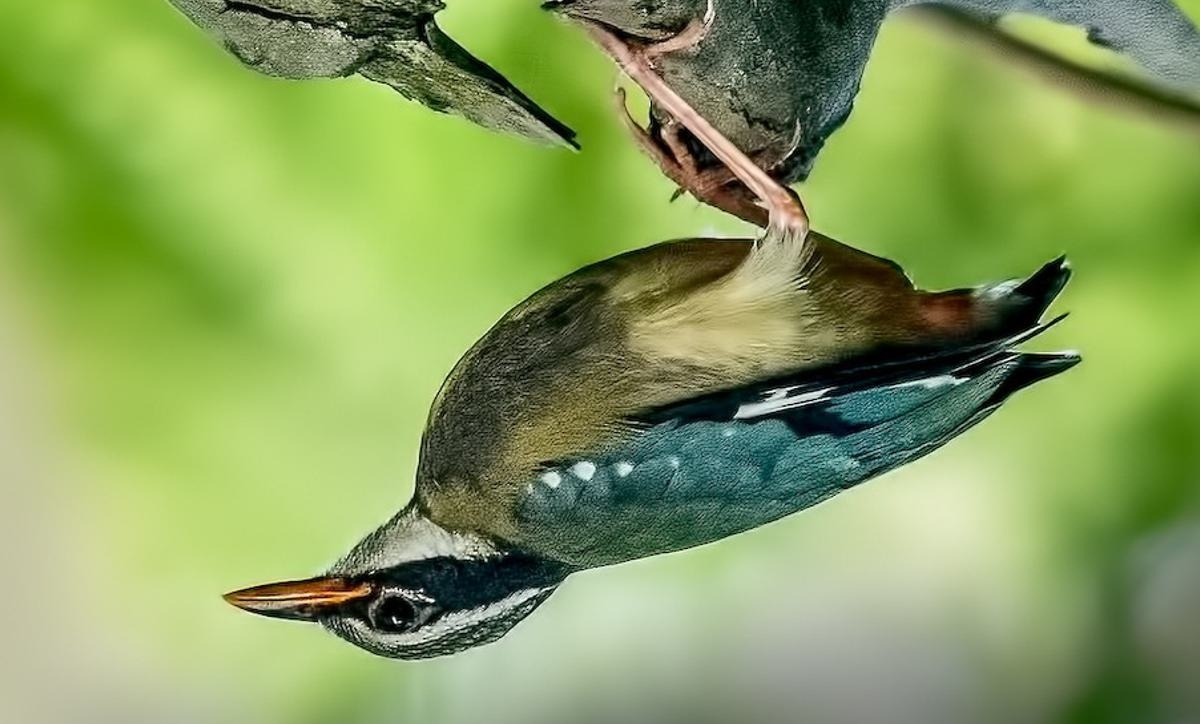pitta: (228, 158, 1108, 673)
